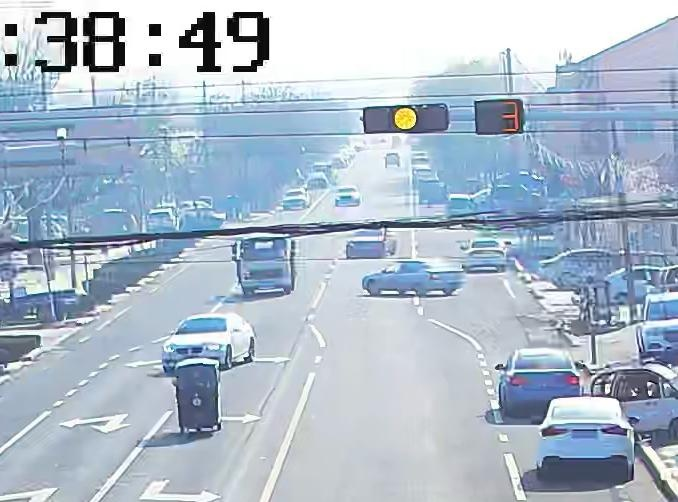yellow: (391, 107, 420, 130)
yellowtime: (497, 100, 523, 133)
